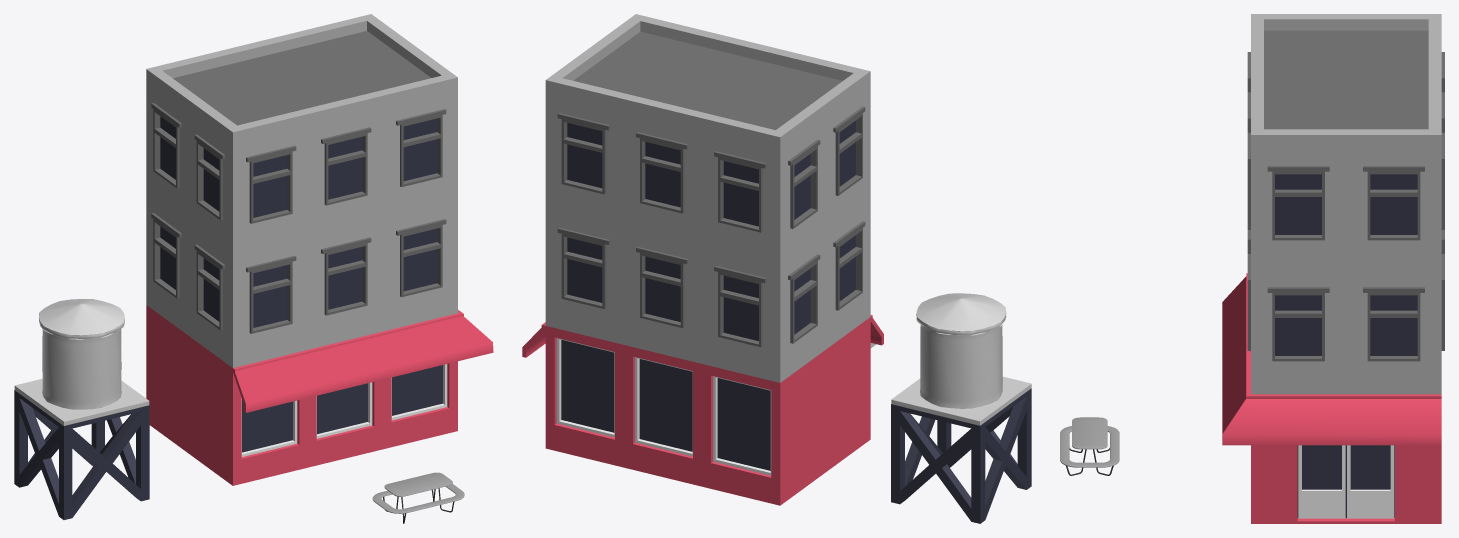
3 views of the same model, side by side, from view 1: azimuth 30°, elevation 25°; view 2: azimuth 150°, elevation 25°; view 3: azimuth 270°, elevation 25° (orthographic). The views are drawn at different scales.
Visible parts, largest first — view 1: Main building, Ground floor, Window glass, Window frames, Roof, Marquee, Water tank, Legs, Window frame, table and bench; view 2: Main building, Window glass, Ground floor, Window frames, Roof, Water tank, Legs, Window frame, Marquee; view 3: Main building, Roof, Marquee, Window glass, Window frames, Ground floor, Door, table and bench.
Boxes of the visible parts, bbox=[...] form: Main building: bbox=[146, 14, 457, 367]; Ground floor: bbox=[146, 305, 457, 485]; Window glass: bbox=[160, 116, 442, 452]; Window frames: bbox=[151, 103, 446, 333]; Roof: bbox=[173, 31, 430, 125]; Marquee: bbox=[233, 310, 493, 412]; Water tank: bbox=[14, 299, 149, 425]; Legs: bbox=[14, 390, 149, 519]; Window frame: bbox=[241, 364, 447, 456]; table and bench: bbox=[373, 472, 464, 512]; Main building: bbox=[545, 14, 870, 382]; Window glass: bbox=[561, 120, 855, 470]; Ground floor: bbox=[545, 317, 870, 505]; Window frames: bbox=[557, 106, 865, 347]; Roof: bbox=[573, 31, 842, 130]; Water tank: bbox=[891, 293, 1031, 425]; Legs: bbox=[891, 388, 1031, 523]; Window frame: bbox=[556, 338, 771, 475]; Marquee: bbox=[522, 315, 883, 357]; Main building: bbox=[1251, 14, 1441, 394]; Roof: bbox=[1264, 30, 1428, 129]; Marquee: bbox=[1222, 273, 1441, 445]; Window glass: bbox=[1275, 174, 1417, 517]; Window frames: bbox=[1247, 52, 1444, 361]; Ground floor: bbox=[1251, 445, 1441, 523]; Door: bbox=[1298, 445, 1394, 518]; table and bench: bbox=[1060, 417, 1119, 466].
Size of the model in its own units: 0.1091 by 0.0901 by 0.0807.
